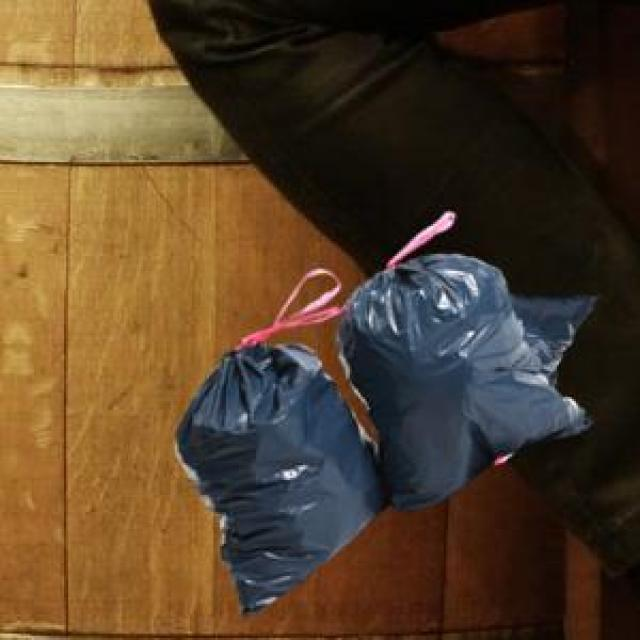waste: (178, 212, 596, 612)
